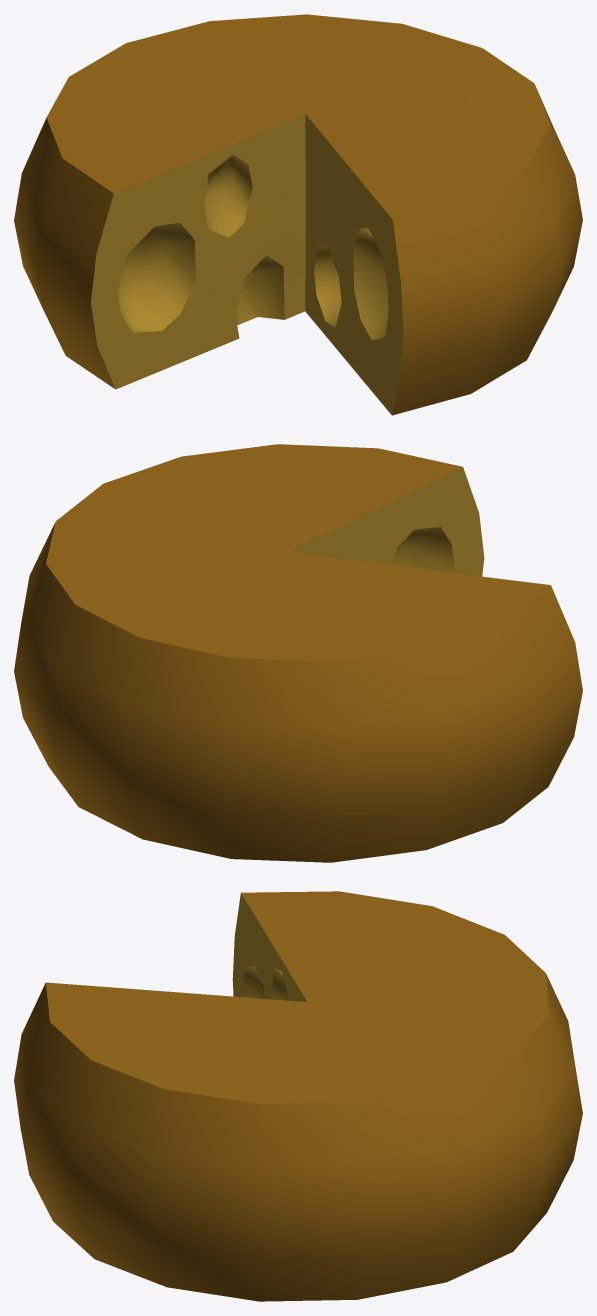
File: food_cheese_02.fbx
3 views of the same model, one above another, from view 1: azimuth 30°, elevation 25°; view 2: azimuth 150°, elevation 25°; view 3: azimuth 270°, elevation 25° (orthographic). The views are drawn at different scales.
Parts seen in each view (by area): view 1: food_cheese_02; view 2: food_cheese_02; view 3: food_cheese_02.
Part boxes in pixels (x1,y1,x2,y2): food_cheese_02: [14, 14, 582, 415]; food_cheese_02: [14, 444, 582, 862]; food_cheese_02: [14, 891, 582, 1301].
Size of the model in its own units: 76.81 by 29.72 by 76.68.
